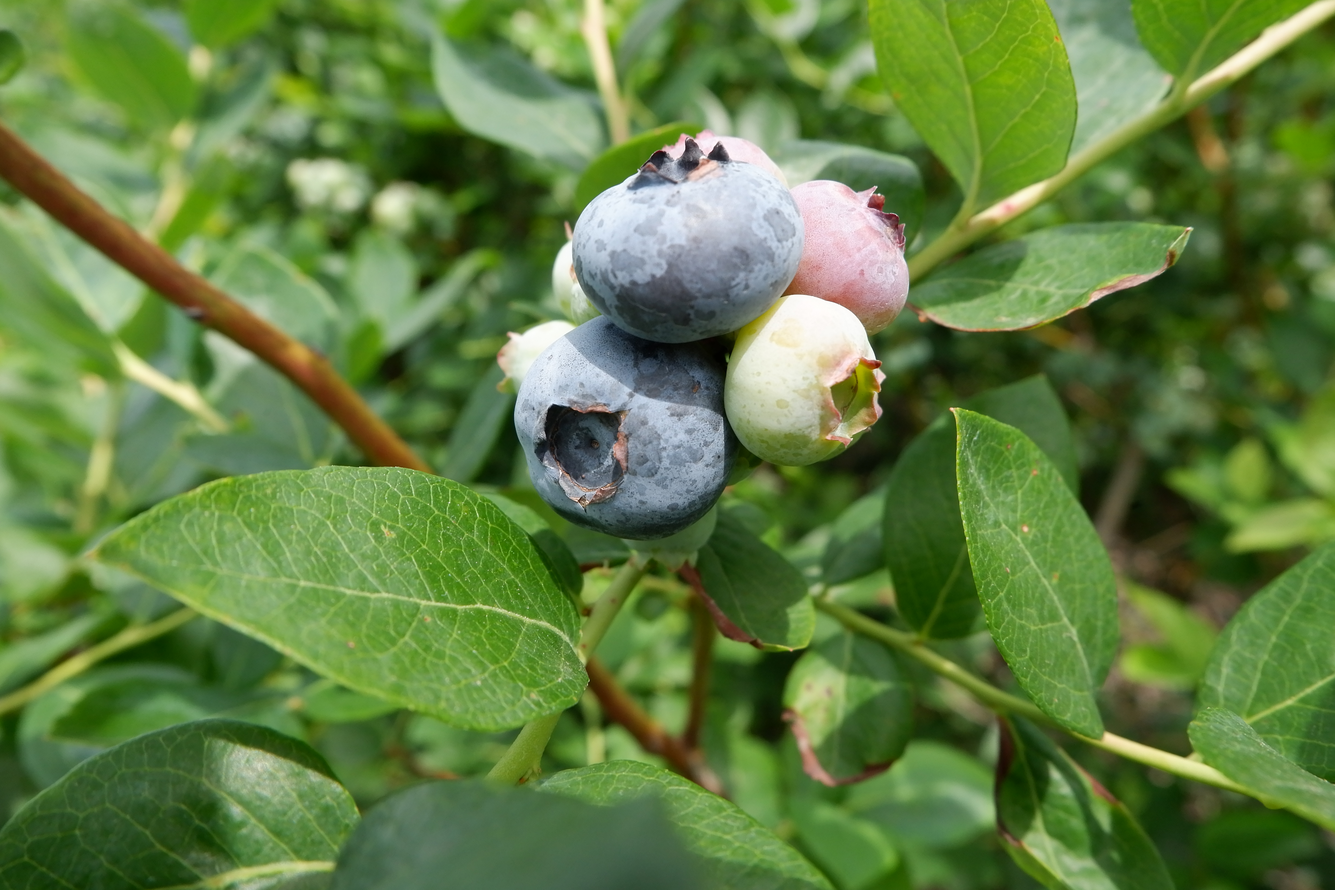Immature: (724, 295, 882, 466), (792, 181, 906, 331), (664, 129, 789, 189), (622, 512, 715, 571), (498, 323, 569, 391), (551, 220, 572, 321), (569, 266, 603, 327)
Mature: (572, 139, 804, 343), (516, 315, 728, 537)
